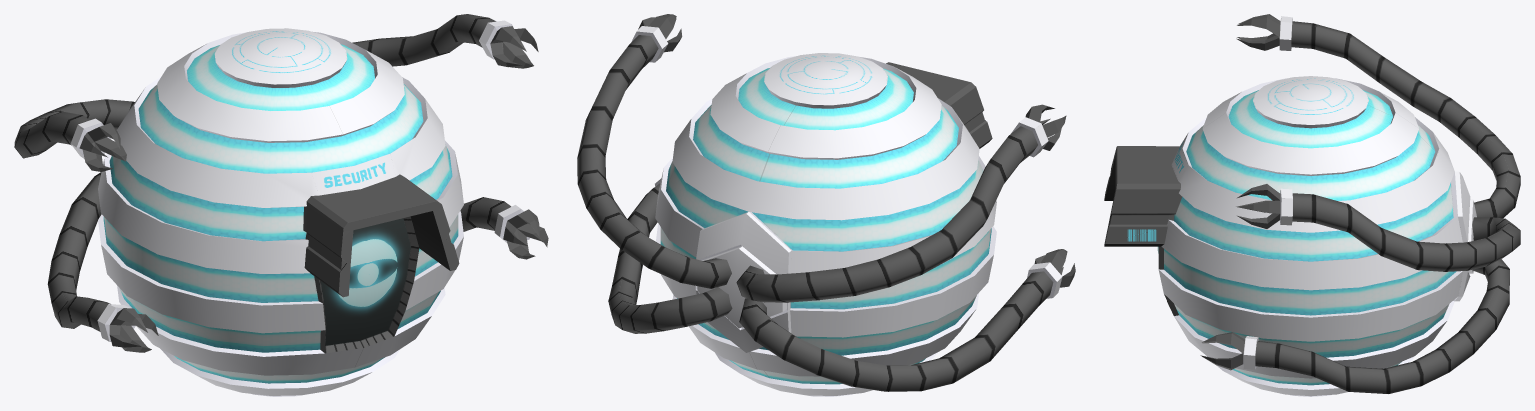
The model's file is Enemy.fbx.
The picture shows the model from 3 angles, left to right: view 1: azimuth 30°, elevation 25°; view 2: azimuth 150°, elevation 25°; view 3: azimuth 270°, elevation 25°; orthographic projection. The views are drawn at different scales.
Parts seen in each view (by area): view 1: polySurface19; view 2: polySurface19; view 3: polySurface19.
Boxes of the visible parts, x1=… form: polySurface19: x1=14, y1=14, x2=548, y2=396; polySurface19: x1=577, y1=14, x2=1075, y2=396; polySurface19: x1=1104, y1=14, x2=1520, y2=396.
Size of the model in its own units: 94.97 by 66.89 by 87.27.
1 material, 1 textured.
